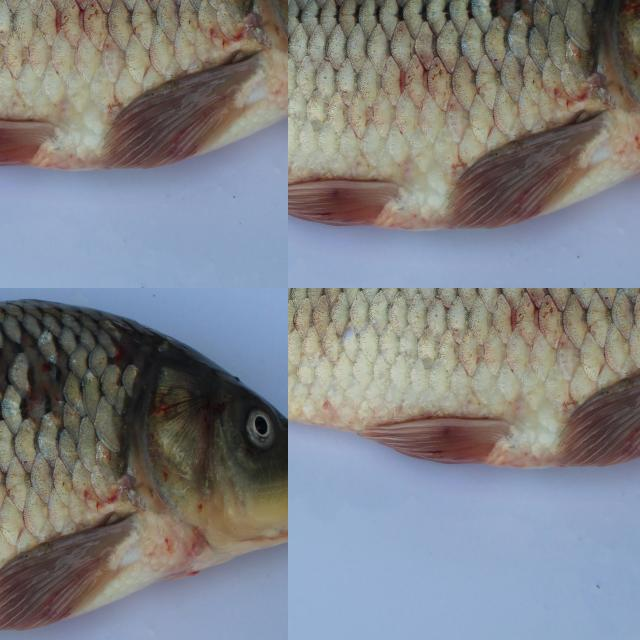fish: (288, 288, 640, 462)
